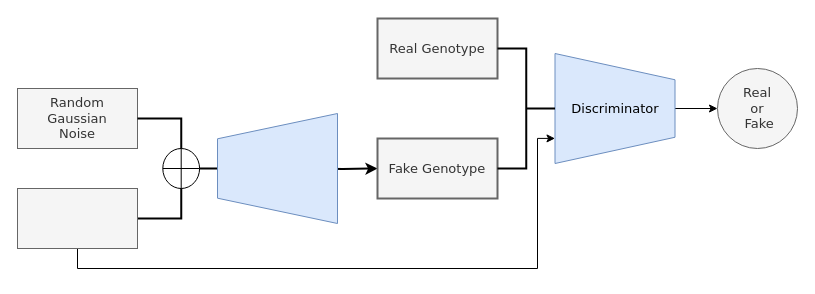
Image size: 815x294. Some labels were removed from this diagram. The box of each missing label's shape, as (x1, y1, x2, y2) in pixels:
Generator: (216, 112, 338, 224)
GWAS Summary Stats: (16, 188, 138, 248)
